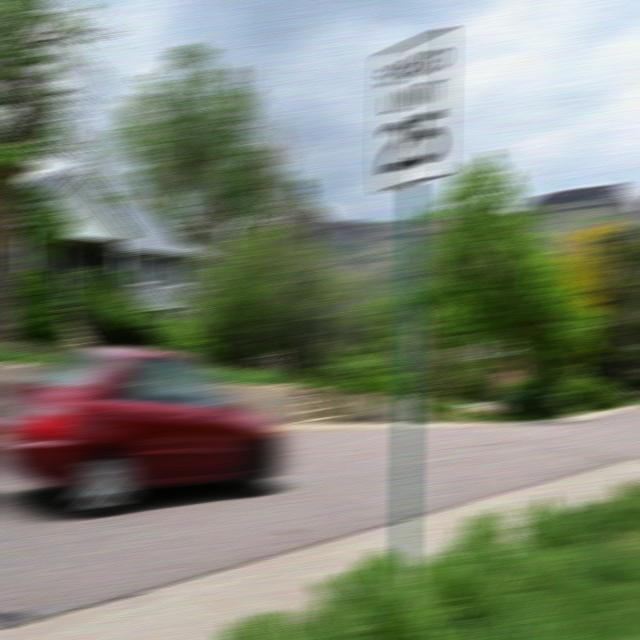speedLimit25: (374, 24, 452, 188)
